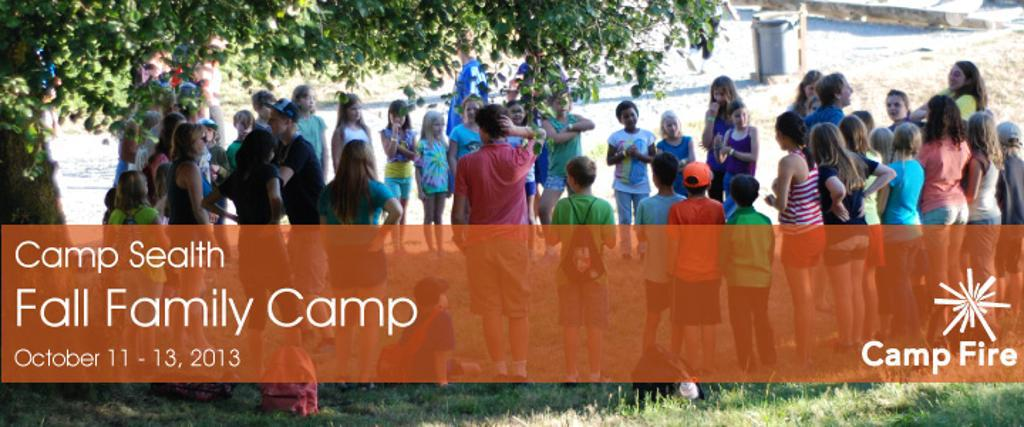face: (887, 99, 907, 119), (269, 112, 286, 135), (948, 69, 965, 89), (194, 132, 208, 155), (840, 82, 853, 106), (302, 93, 317, 111), (622, 111, 638, 127), (733, 110, 748, 127), (466, 106, 481, 122), (510, 108, 525, 124), (665, 121, 679, 138), (776, 129, 787, 150), (806, 85, 821, 100), (714, 89, 728, 105), (349, 104, 362, 121), (391, 113, 406, 127), (432, 121, 445, 136), (555, 100, 569, 113)
